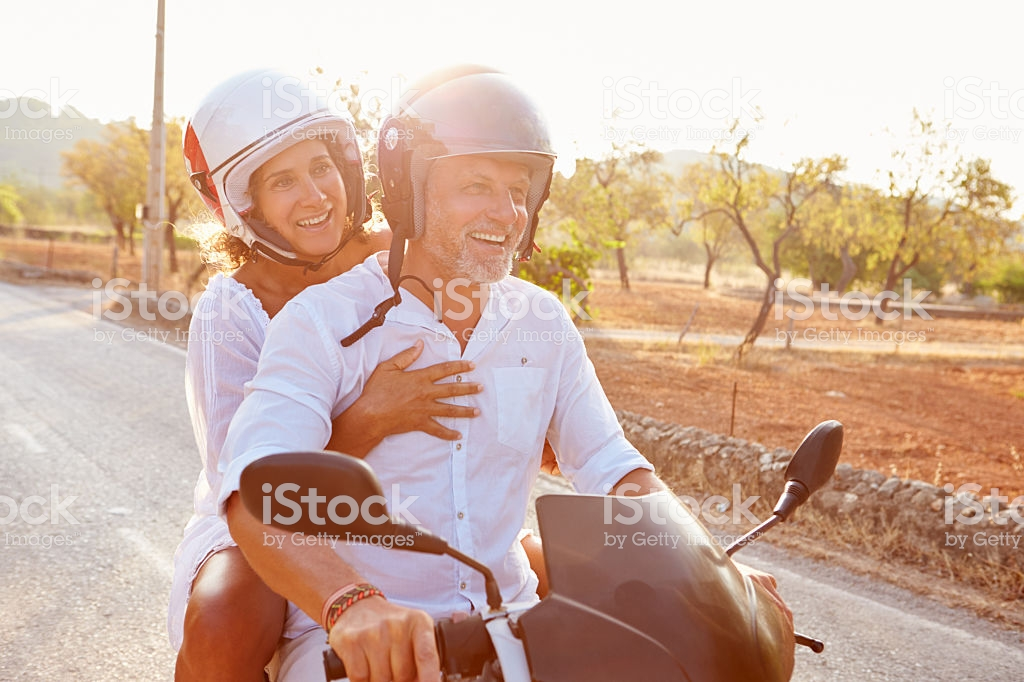helmet: (370, 57, 554, 235), (163, 74, 356, 213)
